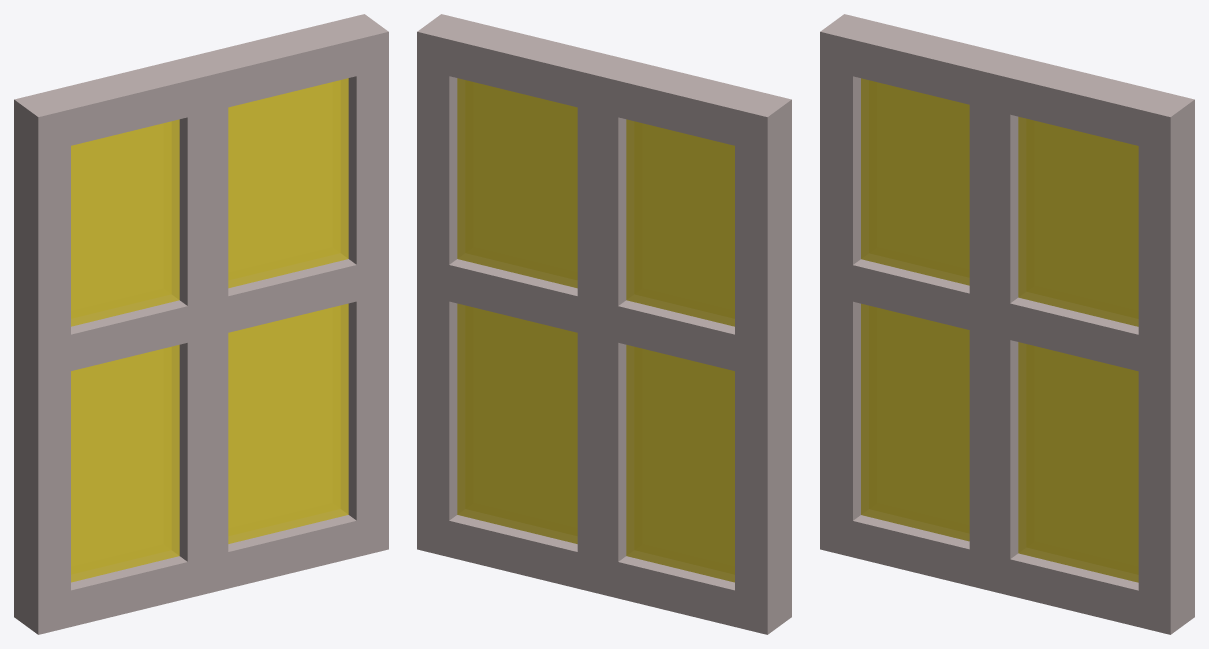
The model's file is Window.fbx.
3 renders of one model, left to right at view 1: azimuth 30°, elevation 25°; view 2: azimuth 150°, elevation 25°; view 3: azimuth 330°, elevation 25°, orthographic.
Visible parts, largest first — view 1: Window; view 2: Window; view 3: Window.
Part boxes in pixels (<box>): Window: <box>14,14,388,634</box>; Window: <box>417,14,791,634</box>; Window: <box>820,14,1194,634</box>.
Size of the model in its own units: 184 by 260 by 22.05.
2 materials, 2 textured.
